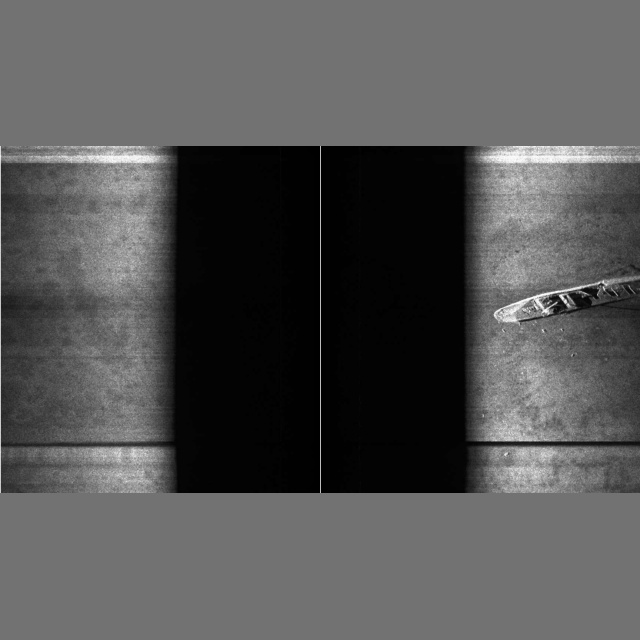Shipwreck: (483, 275, 640, 457)
